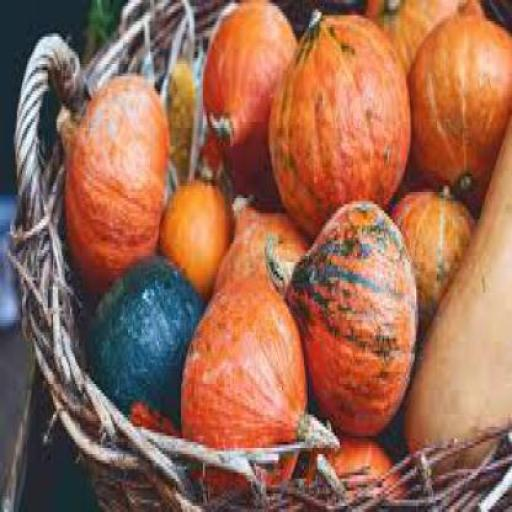biodegradable: (402, 82, 511, 476), (263, 192, 415, 433), (262, 3, 410, 241), (179, 280, 334, 494), (52, 67, 170, 284), (84, 250, 203, 442), (408, 0, 510, 210), (201, 0, 297, 198), (391, 176, 471, 342), (359, 0, 484, 86), (297, 424, 405, 510), (208, 192, 303, 289), (157, 176, 232, 298), (164, 55, 197, 174)
